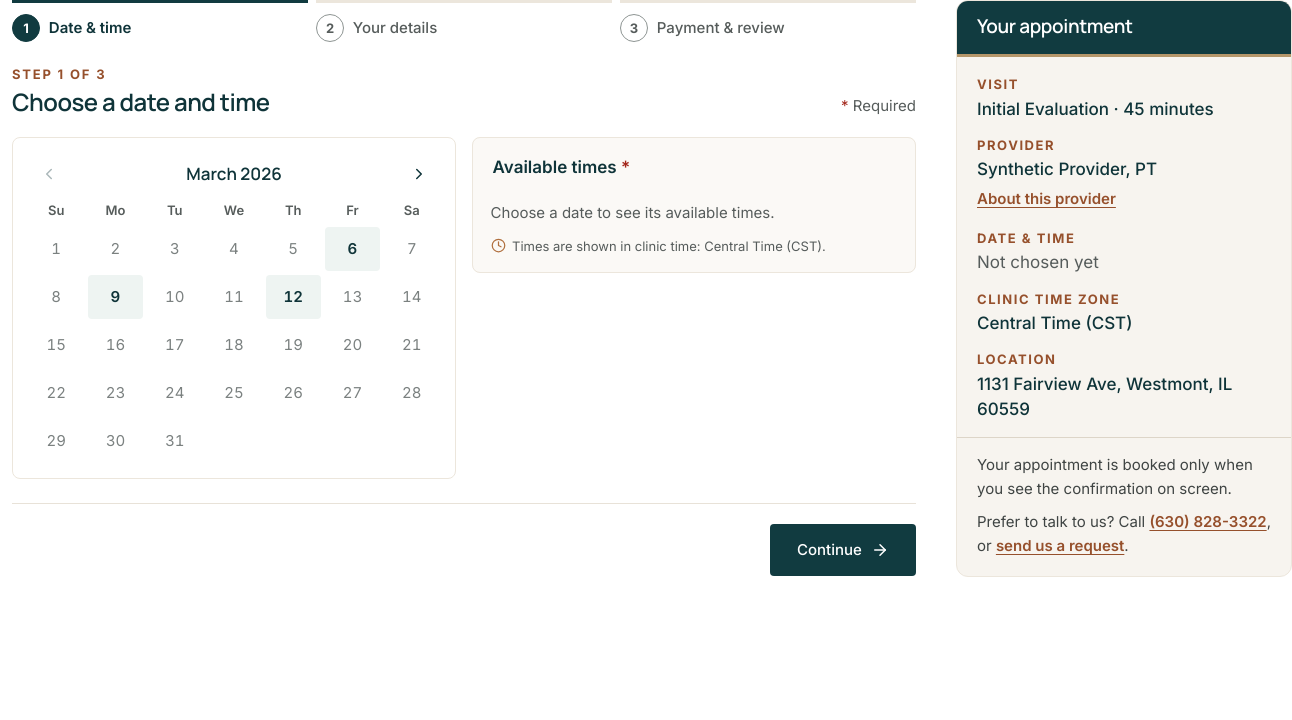
Test: SchedulingForm › shows provider details on click, only real times (early ones included) and the clinic time zone
What coordinates should you click on to do the following:
click the button "About this provider"
I would click on:
 (1046, 199)
Its box is [977,183,1116,215].
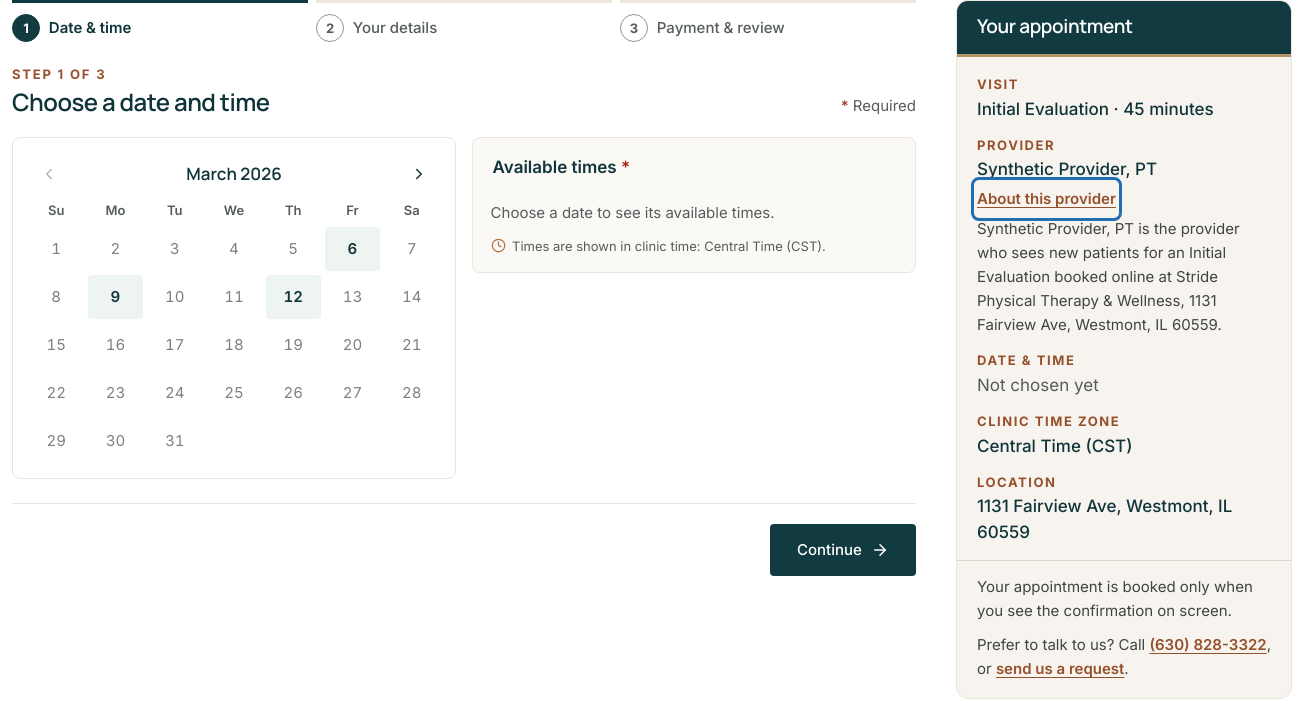
Expected: the button named "Thursday, March 5, 2026, no times available" is disabled, [266,227,321,271]
Expected: the text "is the provider who sees new patients" is shown, [977,219,1240,262]
What coordinates should you click on to do the following:
click the button named "Thursday, March 12, 2026, 1 time available"
I would click on:
 (293, 297)
Its box is [266,275,321,319].
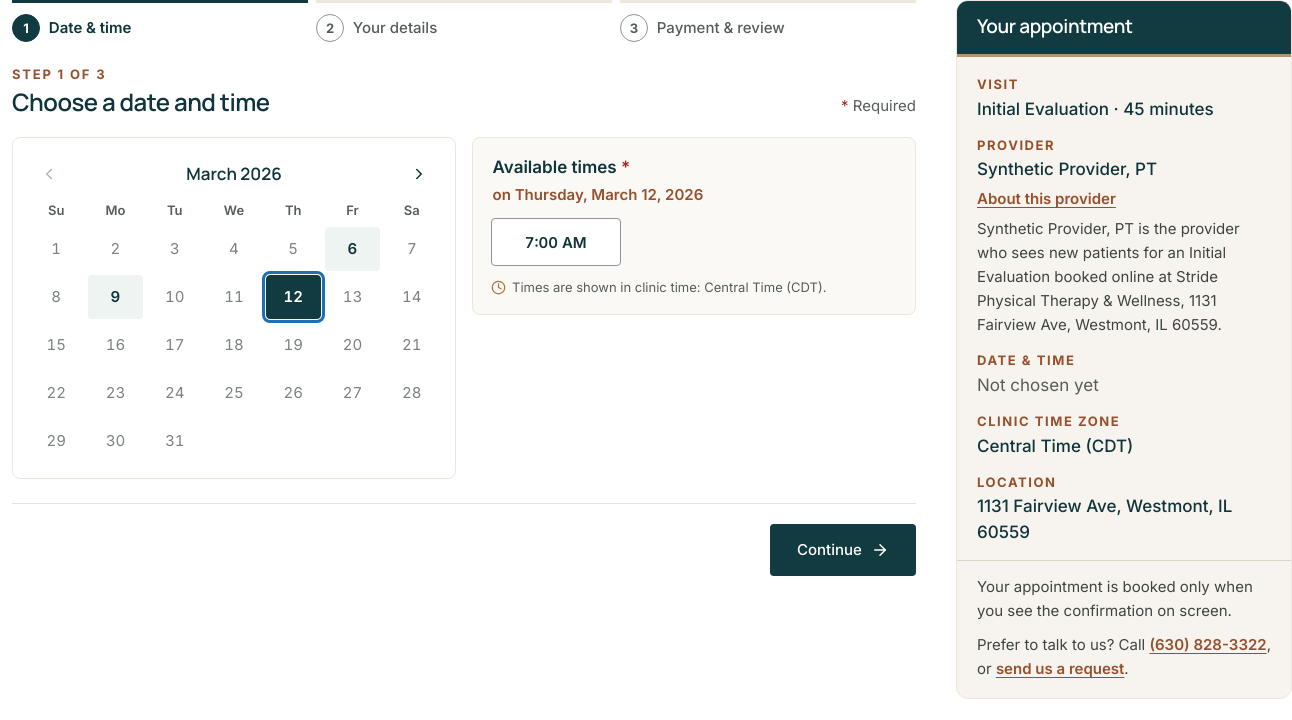
Expected: the element named "Available times on Thursday, March 12, 2026" is shown, [472,137,916,315]
Expected: the radio button labelled "7:00 AM" is shown, [491,218,621,266]
What coordinates should you click on to do the following:
click the button named "Monday, March 9, 2026, 2 times available"
I would click on:
 (115, 297)
Its box is [88,275,143,319].
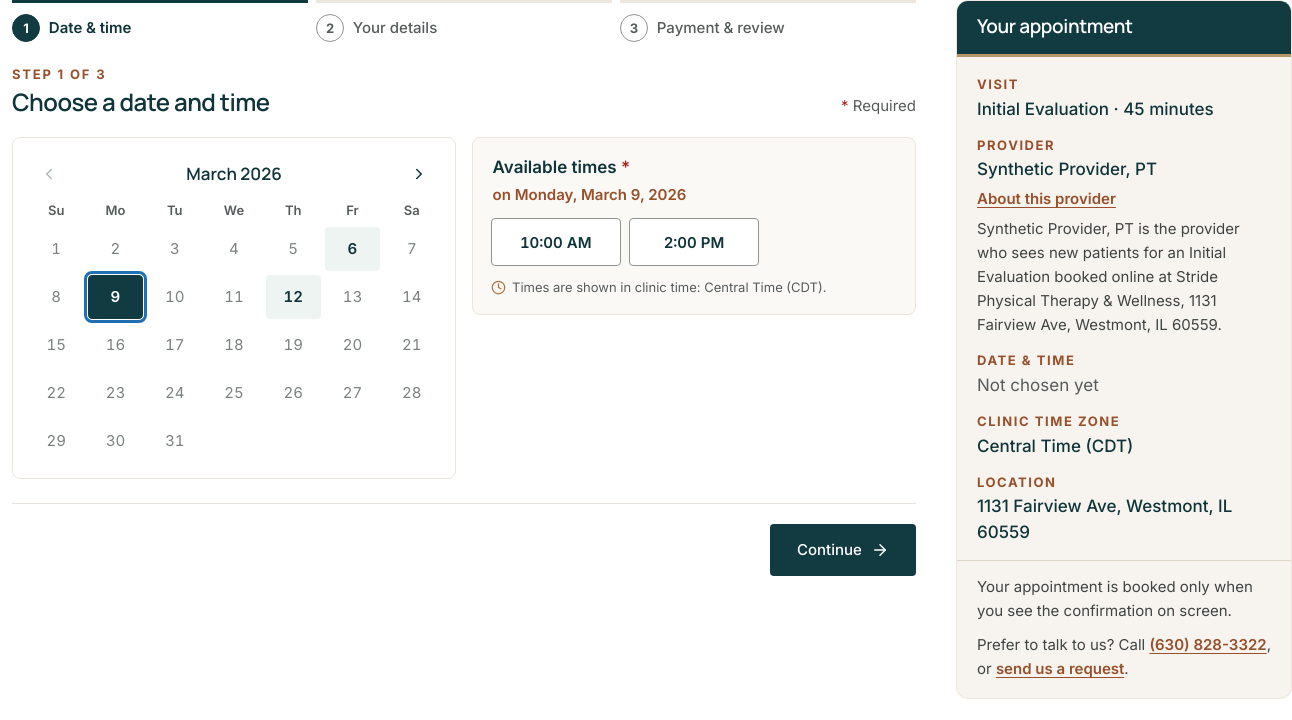
What coordinates should you click on to do the following:
click the radio button labelled "10:00 AM"
I would click on:
 (556, 242)
Its box is [491,218,621,266].
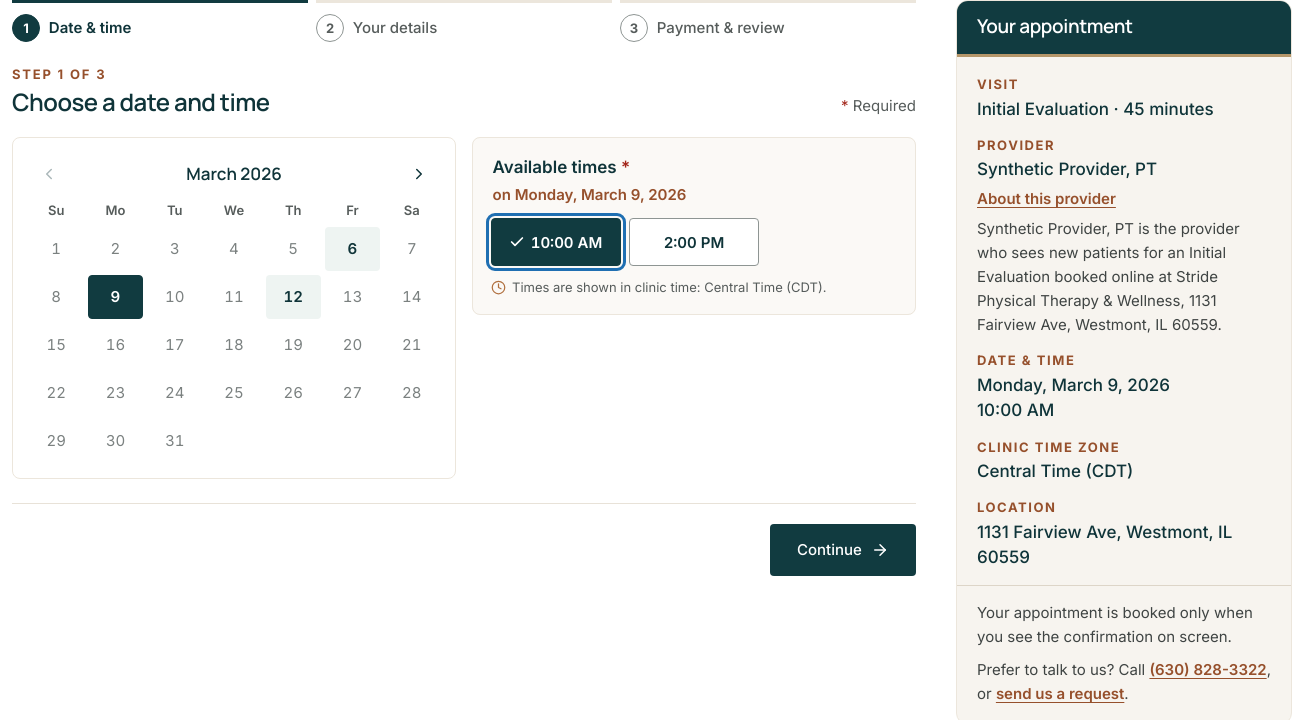
Expected: the radio button labelled "10:00 AM" is checked, [491,218,621,266]
Expected: the text "Times are shown in clinic time: Central Time (CDT)." is shown, [491,279,826,295]
Expected: the element "Your appointment" shows "Monday, March 9, 2026", [977,375,1170,395]
